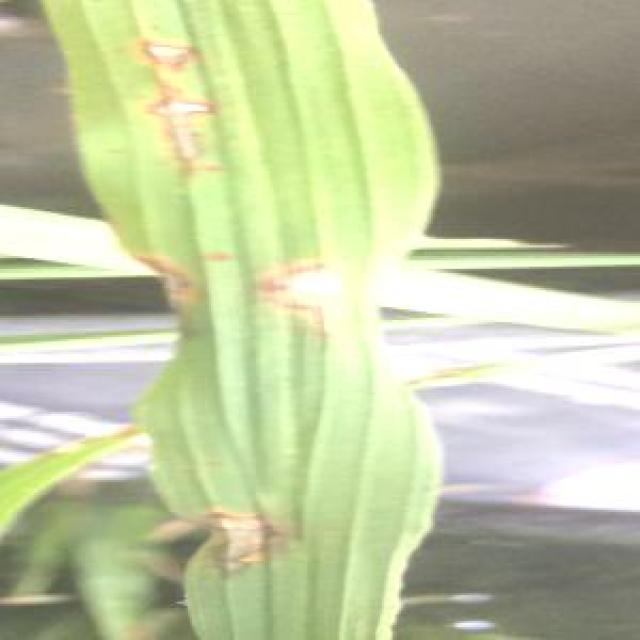Leaf_Blast: (107, 211, 245, 363), (252, 207, 373, 369), (168, 454, 296, 576), (134, 81, 239, 173), (111, 10, 209, 90)
